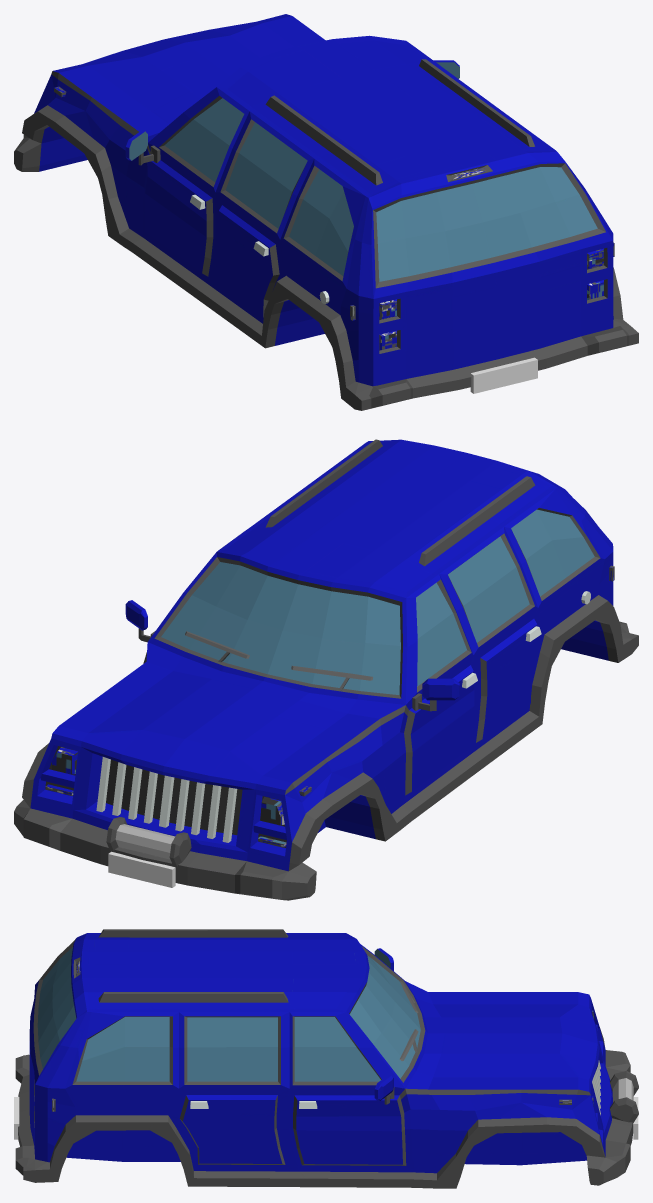
File: carro.fbx
The picture shows the model from 3 angles, top to bottom: view 1: azimuth 30°, elevation 25°; view 2: azimuth 150°, elevation 25°; view 3: azimuth 270°, elevation 25°; orthographic projection. The views are drawn at different scales.
Visible parts, largest first — view 1: polySurface1; view 2: polySurface1; view 3: polySurface1.
Boxes of the visible parts, x1,y1,x2,y2 form: polySurface1: [14, 14, 638, 410]; polySurface1: [14, 439, 638, 900]; polySurface1: [14, 929, 638, 1188].
Bounding box in the file's own units: 13.97 × 8 × 26.5.
